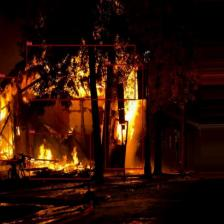fire: (26, 45, 135, 100), (105, 64, 143, 169), (29, 133, 91, 179), (0, 77, 18, 161)
